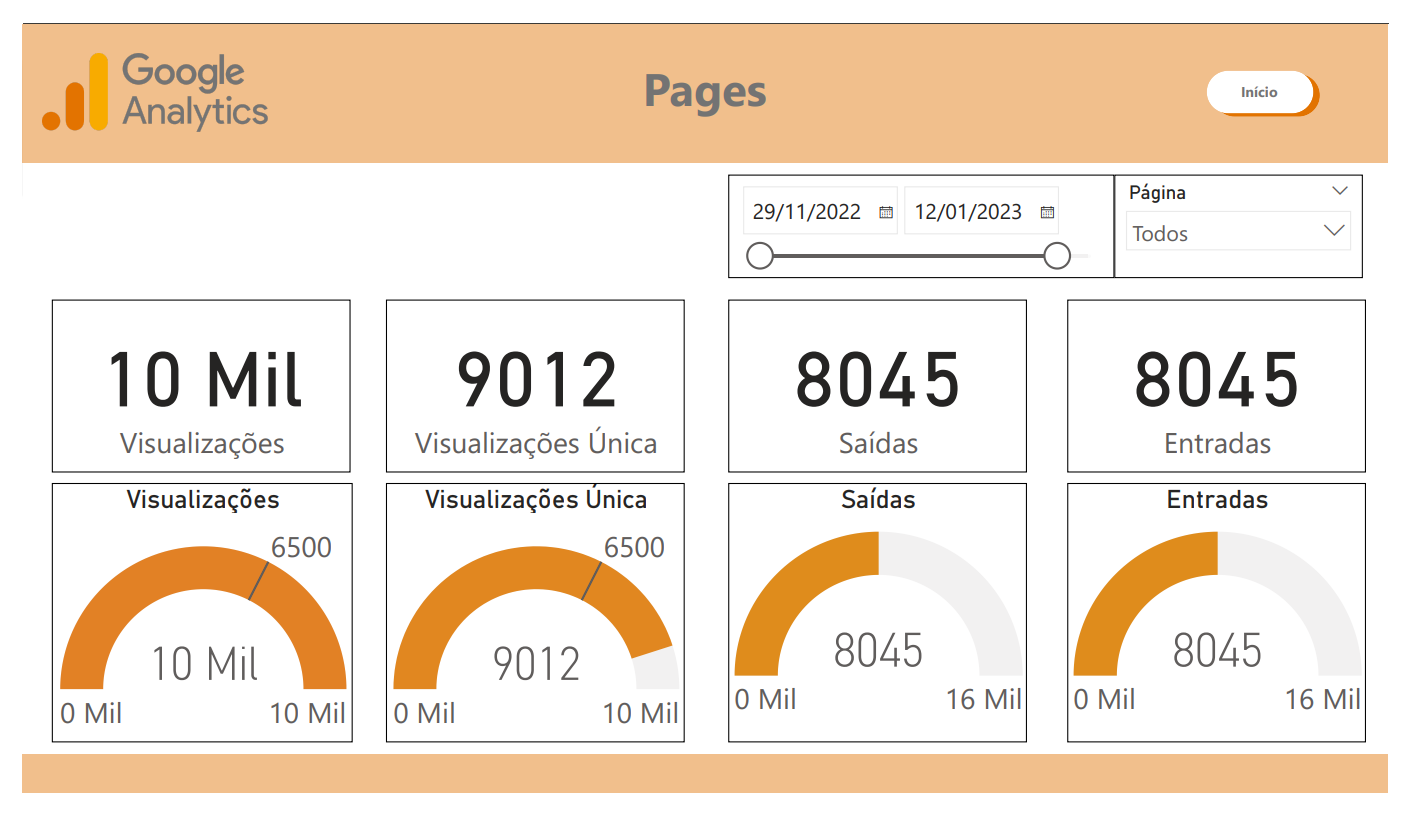

This screenshot's page, from the dashboard's own definition file:
{"tool":"powerbi","page":{"name":"Pages","canvas":[1280,720],"ordinal":3},"visuals":[{"type":"shape","box":[0,0,1280,130],"z":0},{"type":"card","fields":{"Values":["Sum(pages.ga_pageviews)"]},"box":[26.7,258.8,280,161.7],"z":1000},{"type":"card","fields":{"Values":["Sum(pages.ga_uniquepageviews)"]},"box":[340,258.8,280,161.7],"z":2000},{"type":"card","fields":{"Values":["Sum(pages.ga_exits)"]},"box":[661.7,258.8,280,161.7],"z":3000},{"type":"card","fields":{"Values":["Sum(pages.ga_entrances)"]},"box":[978.3,258.8,280,161.7],"z":4000},{"type":"slicer","fields":{"Values":["pages.ga_date"]},"box":[661.7,141.7,361.7,96.7],"z":5000},{"type":"slicer","fields":{"Values":["pages.ga_pagepath"]},"box":[1023.3,141.7,233.3,96.7],"z":6000},{"type":"gauge","fields":{"Y":["Sum(pages.ga_pageviews)"]},"box":[26.7,430.4,281.7,243.3],"z":7000},{"type":"gauge","fields":{"Y":["Sum(pages.ga_uniquepageviews)"]},"box":[340,430.4,280,243.3],"z":8000},{"type":"gauge","fields":{"Y":["Sum(pages.ga_exits)"]},"box":[661.7,430.4,280,243.3],"z":9000},{"type":"gauge","fields":{"Y":["Sum(pages.ga_entrances)"]},"box":[978.3,430.4,280,243.3],"z":10000},{"type":"actionButton","box":[1115.8,47.8,99.6,40.1],"z":10500},{"type":"actionButton","box":[1109.3,44,99.6,40.1],"z":11000},{"type":"textbox","box":[534,25.9,210.7,76.3],"z":13000},{"type":"image","box":[14.2,0,221.1,129.3],"z":14000},{"type":"shape","box":[0,683.3,1280,36.7],"z":15000}]}

Visuals, with their boxes in screenshot pixels (x1, y1, x2, y2), scaled from the page's 1280x720 canvas onto the 1413x816 screenshot:
shape: l=0, t=0, r=1412, b=147
card - Sum(pages.ga_pageviews): l=29, t=293, r=339, b=477
card - Sum(pages.ga_uniquepageviews): l=375, t=293, r=684, b=477
card - Sum(pages.ga_exits): l=730, t=293, r=1040, b=477
card - Sum(pages.ga_entrances): l=1080, t=293, r=1389, b=477
slicer - pages.ga_date: l=730, t=161, r=1130, b=270
slicer - pages.ga_pagepath: l=1130, t=161, r=1387, b=270
gauge - Sum(pages.ga_pageviews): l=29, t=488, r=340, b=764
gauge - Sum(pages.ga_uniquepageviews): l=375, t=488, r=684, b=764
gauge - Sum(pages.ga_exits): l=730, t=488, r=1040, b=764
gauge - Sum(pages.ga_entrances): l=1080, t=488, r=1389, b=764
actionButton: l=1232, t=54, r=1342, b=100
actionButton: l=1225, t=50, r=1335, b=95
textbox: l=589, t=29, r=822, b=116
image: l=16, t=0, r=260, b=147
shape: l=0, t=774, r=1412, b=815
